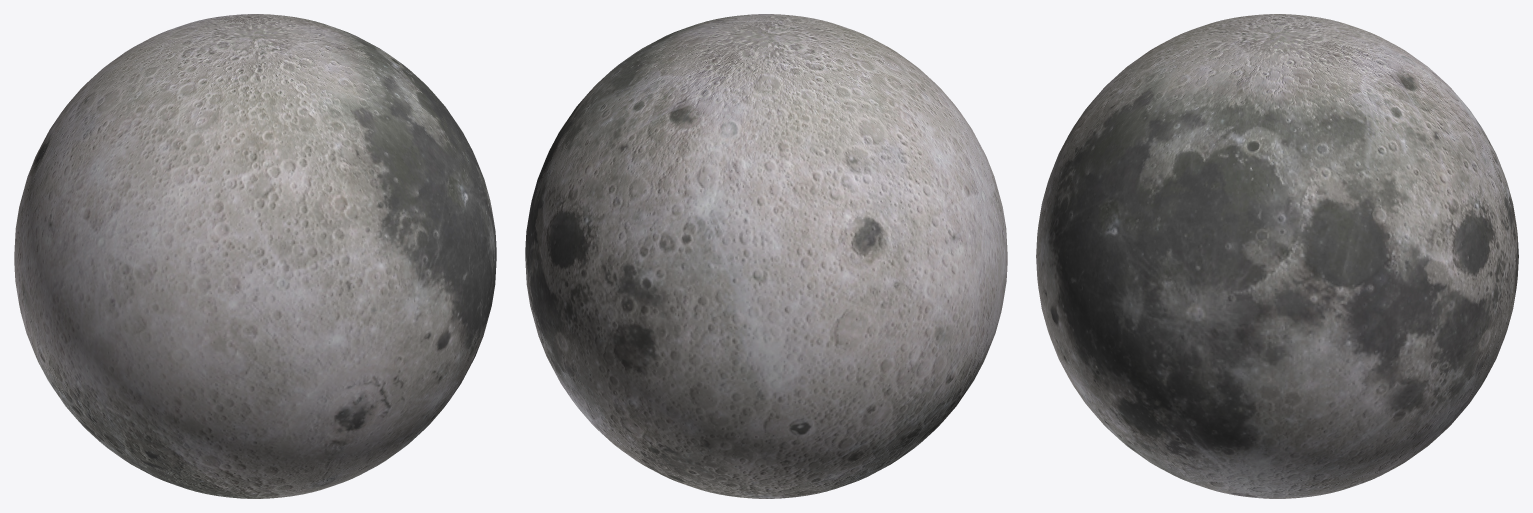
Rendered from luna_by_miguel_antonio_hz_lechmk (1).glb.
3 renders of one model, left to right at view 1: azimuth 30°, elevation 25°; view 2: azimuth 150°, elevation 25°; view 3: azimuth 270°, elevation 25°, orthographic.
Visible parts, largest first — view 1: Sphere; view 2: Sphere; view 3: Sphere.
Part boxes in pixels (x1,y1,x2,y2): Sphere: [14, 14, 496, 498]; Sphere: [525, 14, 1007, 498]; Sphere: [1036, 14, 1518, 498].
Size of the model in its own units: 9.59 by 9.69 by 9.59.
Materials: 1 (1 with a texture image).
